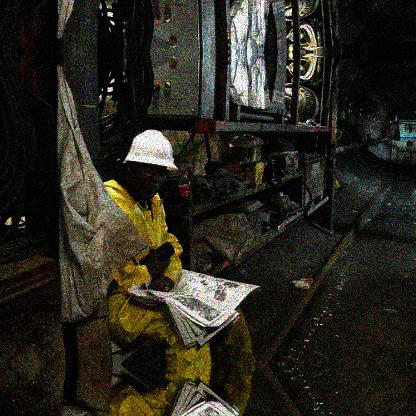helmet: (120, 129, 178, 207)
